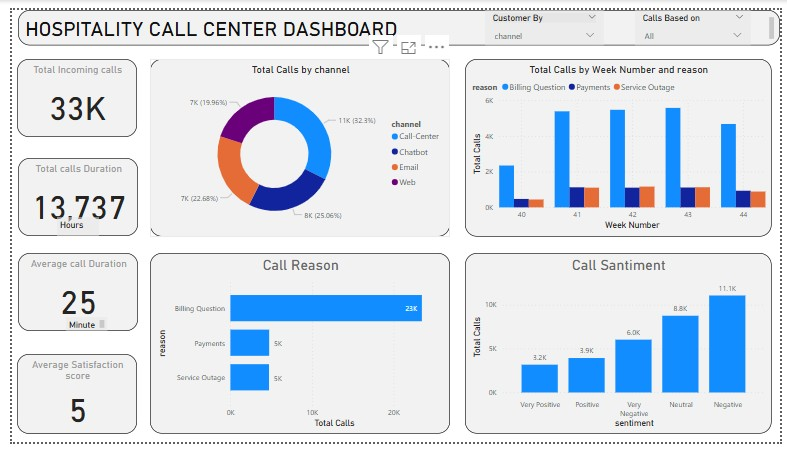

The page's visual inventory and layout, read from the dashboard file:
{"tool":"powerbi","page":{"name":"Page 1","canvas":[1280,720],"ordinal":0},"visuals":[{"type":"textbox","box":[10.2,0,1270.2,58.5],"z":0},{"type":"card","title":"Total Incoming calls","fields":{"Values":["Hospitality call center data.Total Calls"]},"box":[8.8,82,200.5,130.2],"z":1000},{"type":"card","title":"Total calls Duration","fields":{"Values":["Hospitality call center data.Total Call Duration in Hr"]},"box":[10.2,247.3,200.5,130.2],"z":2000},{"type":"card","title":"Average call Duration","fields":{"Values":["Hospitality call center data.AVG Call time in Minutes"]},"box":[10.2,405.4,200.5,130.2],"z":3000},{"type":"card","title":"Average Satisfaction score","fields":{"Values":["Hospitality call center data.Average Satisfacion Score"]},"box":[8.8,573.7,200.5,133.2],"z":4000},{"type":"textbox","box":[74.6,345.4,70.2,32.2],"z":5000},{"type":"textbox","box":[89.3,512.2,68.8,23.4],"z":6000},{"type":"clusteredBarChart","title":"Call Reason","fields":{"Category":["Hospitality call center data.reason"],"Y":["Hospitality call center data.Total Calls"]},"box":[229.8,405.4,500.5,301.5],"z":7000},{"type":"clusteredColumnChart","title":"Call Santiment","fields":{"Y":["Hospitality call center data.Total Calls"],"Category":["Hospitality call center data.sentiment"]},"box":[755.1,405.4,510.7,301.5],"z":8000},{"type":"donutChart","fields":{"Category":["Hospitality call center data.channel"],"Y":["Hospitality call center data.Total Calls"]},"box":[229.8,82,500.5,295.6],"z":10000},{"type":"clusteredColumnChart","fields":{"Series":["Hospitality call center data.reason"],"Category":["Hospitality call center data.Week Number"],"Y":["Hospitality call center data.Total Calls"]},"box":[755.1,82,510.7,295.6],"z":11000},{"type":"slicer","fields":{"Values":["Customer By.Customer By"]},"box":[788.8,0,197.6,58.5],"z":11500},{"type":"slicer","fields":{"Values":["Calls Based on.Calls Based on"]},"box":[1037.6,0,193.2,58.5],"z":12000}]}

Visuals, with their boxes in screenshot pixels (x1, y1, x2, y2), scaled from the page's 1280x720 canvas onto the 787x449 screenshot:
textbox: <region>6, 0, 786, 36</region>
"Total Incoming calls" card: <region>5, 51, 129, 132</region>
"Total calls Duration" card: <region>6, 154, 130, 235</region>
"Average call Duration" card: <region>6, 253, 130, 334</region>
"Average Satisfaction score" card: <region>5, 358, 129, 441</region>
textbox: <region>46, 215, 89, 235</region>
textbox: <region>55, 319, 97, 334</region>
"Call Reason" clusteredBarChart: <region>141, 253, 449, 441</region>
"Call Santiment" clusteredColumnChart: <region>464, 253, 778, 441</region>
donutChart - Hospitality call center data.channel x Hospitality call center data.Total Calls: <region>141, 51, 449, 235</region>
clusteredColumnChart - Hospitality call center data.reason x Hospitality call center data.Week Number: <region>464, 51, 778, 235</region>
slicer - Customer By.Customer By: <region>485, 0, 606, 36</region>
slicer - Calls Based on.Calls Based on: <region>638, 0, 757, 36</region>
